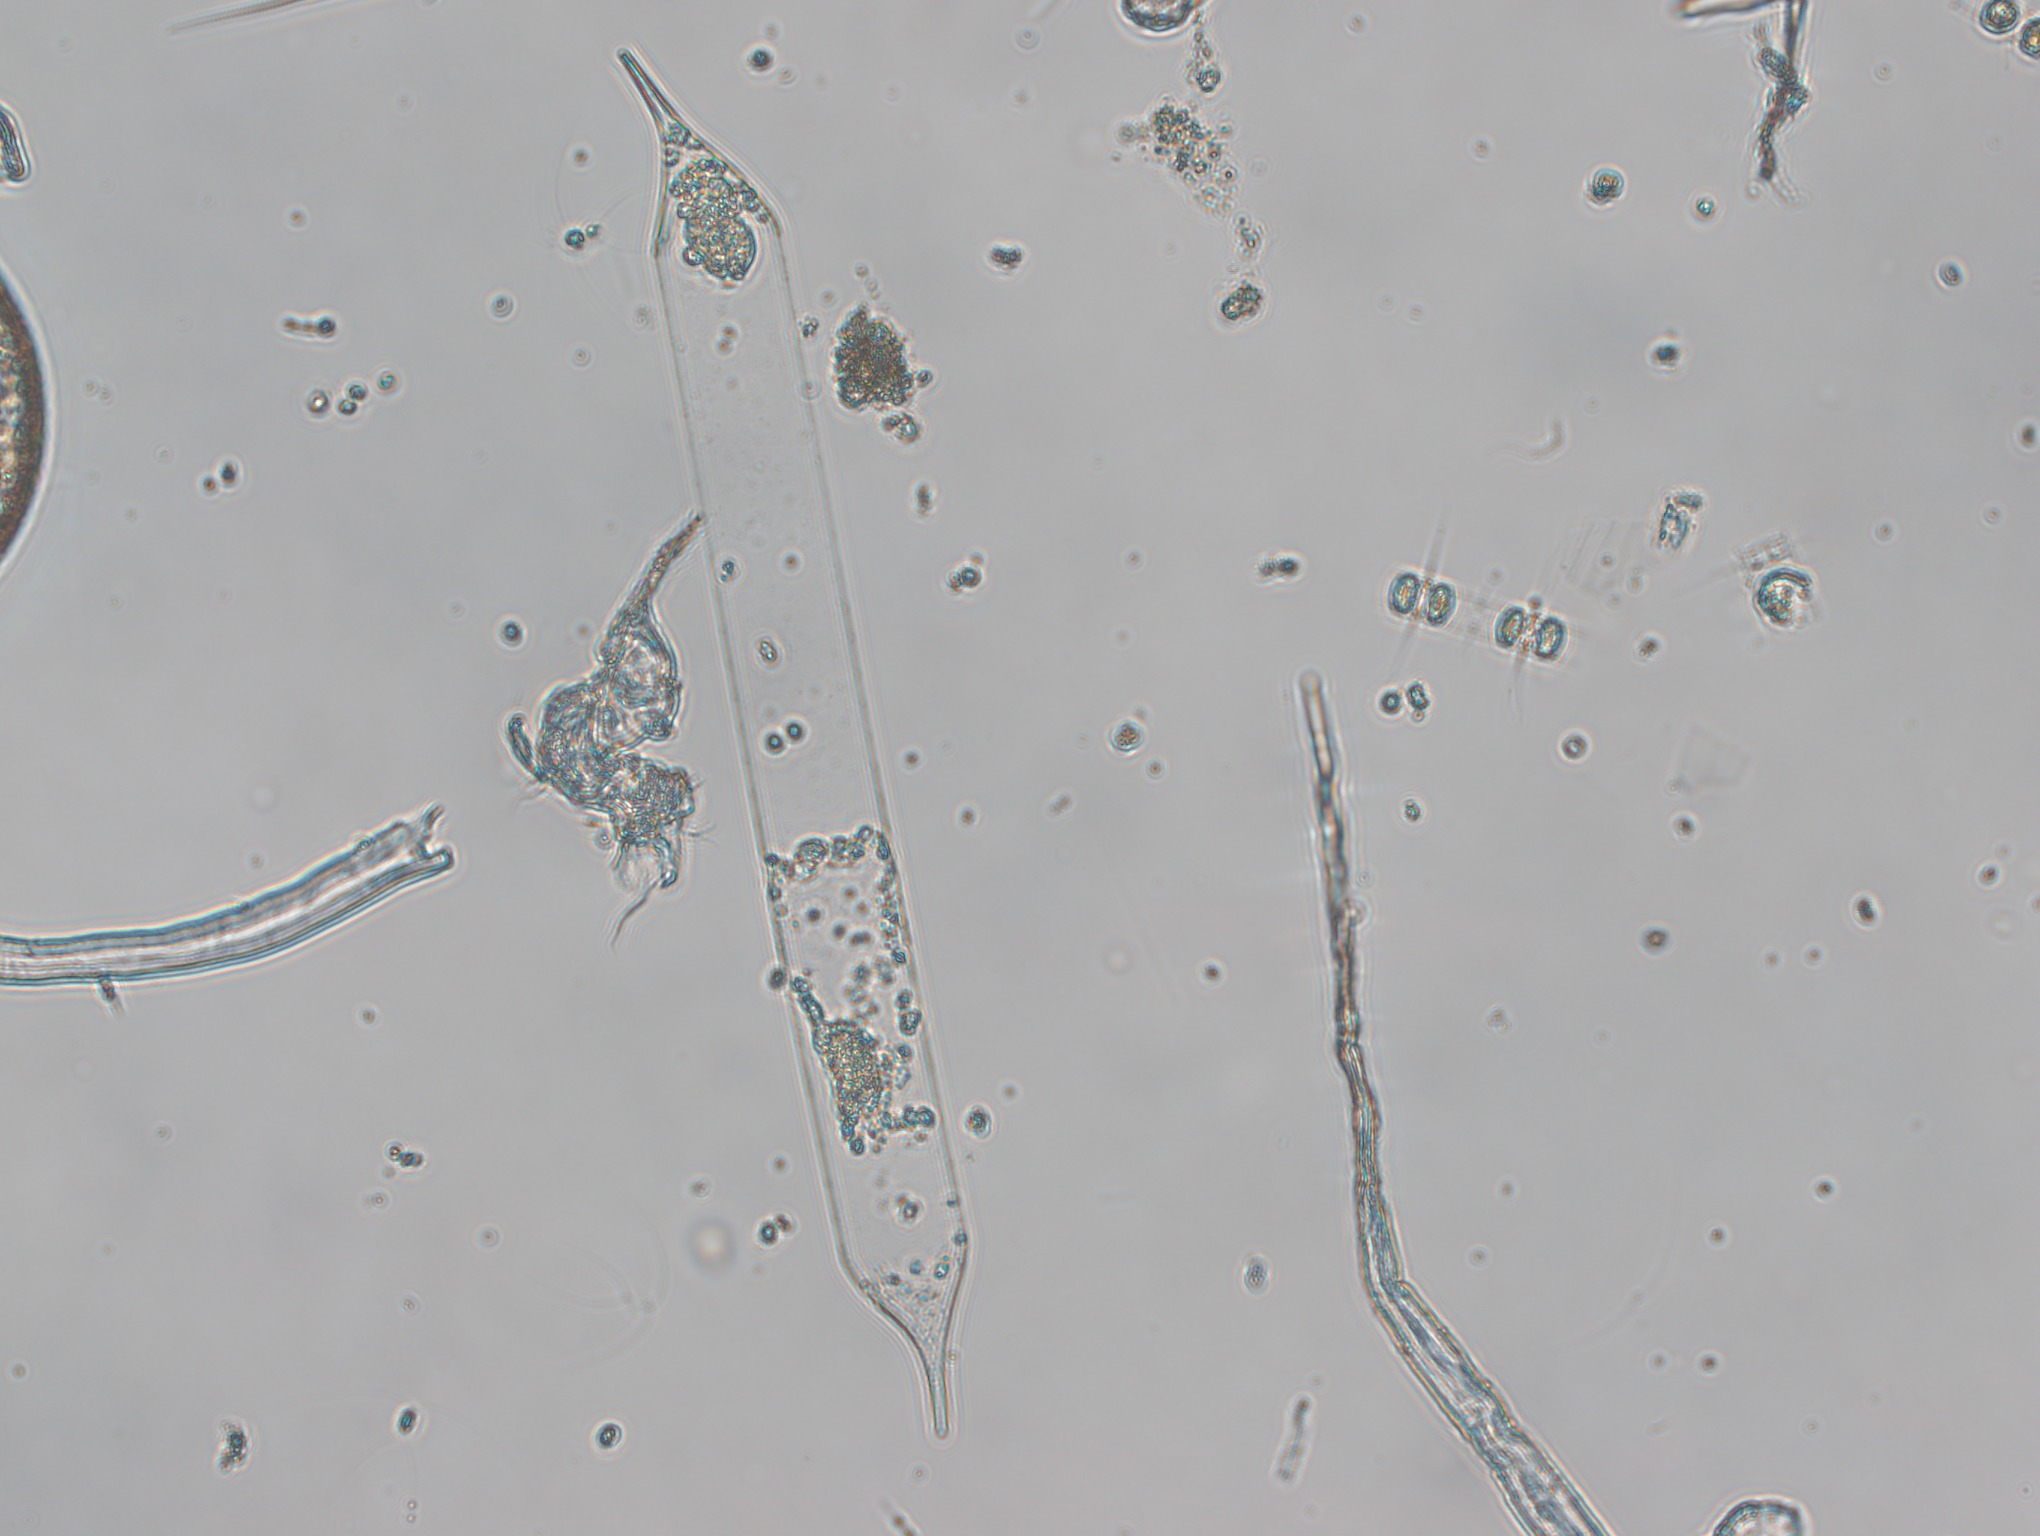chaetoceros: (1379, 526, 1588, 692), (1690, 529, 1835, 650)
rhizosolenia: (614, 48, 969, 1442)
